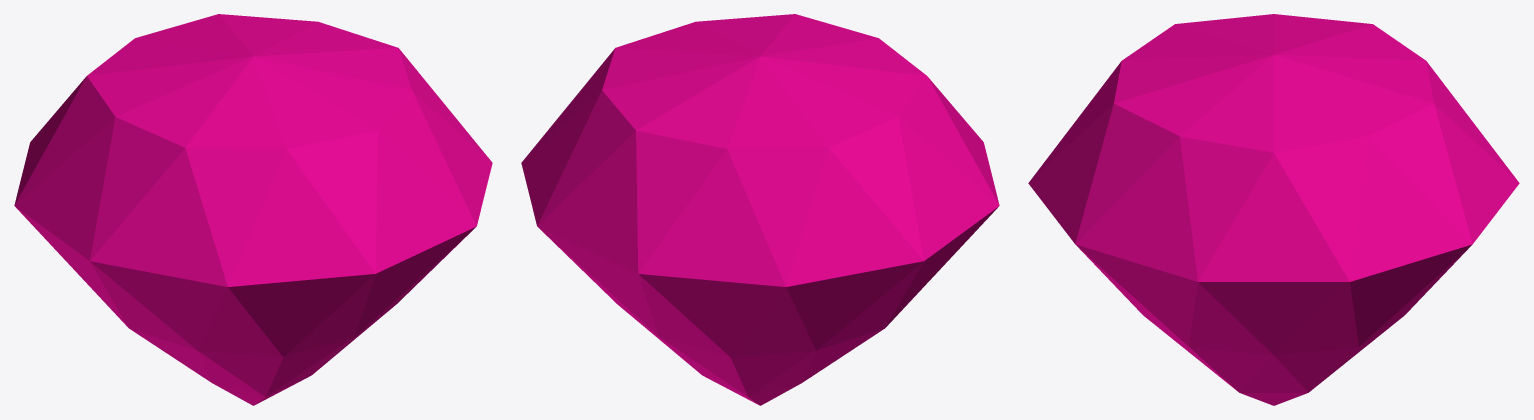
Rendered from Diamond.fbx.
3 views of the same model, side by side, from view 1: azimuth 30°, elevation 25°; view 2: azimuth 150°, elevation 25°; view 3: azimuth 270°, elevation 25° (orthographic).
Parts seen in each view (by area): view 1: Diamond; view 2: Diamond; view 3: Diamond.
Boxes of the visible parts, bbox=[...] form: Diamond: bbox=[14, 14, 492, 405]; Diamond: bbox=[521, 14, 999, 405]; Diamond: bbox=[1028, 14, 1519, 405].
Size of the model in its own units: 28.06 by 23.26 by 29.5.
